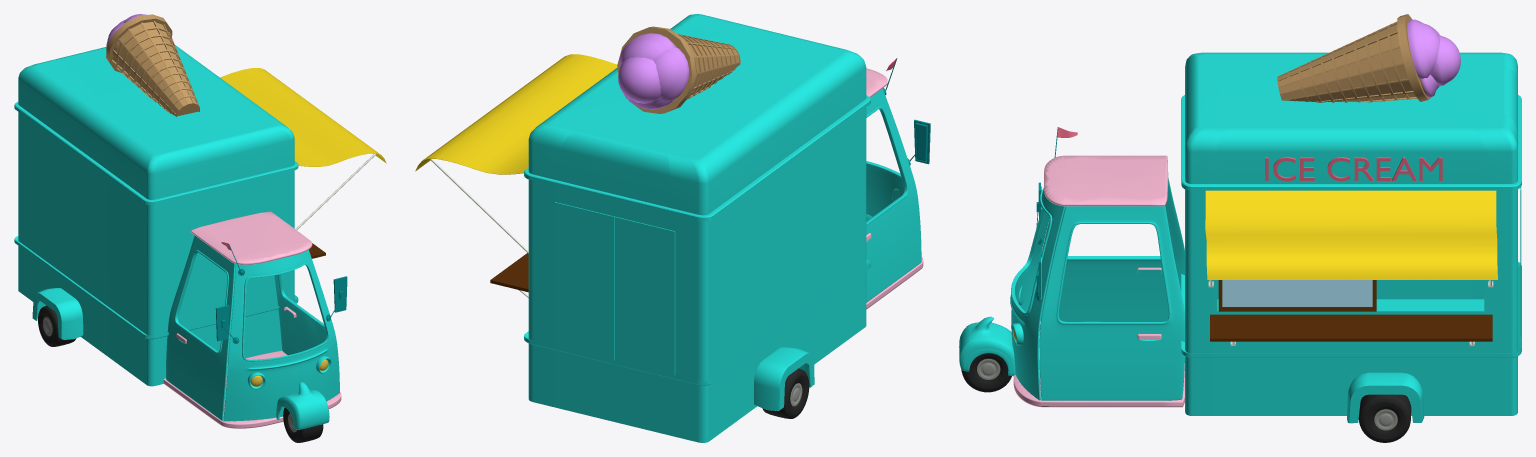
Rendered from car.fbx.
The picture shows the model from 3 angles, left to right: view 1: azimuth 30°, elevation 25°; view 2: azimuth 150°, elevation 25°; view 3: azimuth 270°, elevation 25°; orthographic projection. The views are drawn at different scales.
Visible parts, largest first — view 1: pCube3, polySurface8, pSphere6, pCube8, pCube1, pCube29, pCylinder1, pCube2, polySurface6.001, pCylinder3.001, pCylinder3.002; view 2: pCube3, pCube4, pCube5, pCube8, pSphere6, polySurface8, pCube29, pCylinder3.001, pCube9, polySurface6.001; view 3: pCube3, polySurface8, pCube8, pSphere6, pCube9, pCube1, pCube30, pCube6, pCylinder3, pCylinder1, Text, pCube2 (+1 smaller).
Boxes of the visible parts, x1,y1,x2,y2 form: pCube3: [14, 45, 298, 386]; polySurface8: [166, 235, 339, 421]; pSphere6: [106, 14, 199, 116]; pCube8: [220, 68, 386, 166]; pCube1: [190, 211, 312, 264]; pCube29: [32, 288, 83, 339]; pCylinder1: [276, 382, 329, 429]; pCube2: [163, 350, 341, 428]; polySurface6.001: [215, 276, 347, 343]; pCylinder3.001: [38, 305, 76, 346]; pCylinder3.002: [283, 407, 323, 442]; pCube3: [524, 14, 870, 442]; pCube4: [554, 202, 614, 360]; pCube5: [615, 216, 675, 375]; pCube8: [415, 54, 617, 174]; pSphere6: [617, 26, 740, 113]; polySurface8: [866, 88, 921, 302]; pCube29: [754, 347, 814, 410]; pCylinder3.001: [762, 368, 809, 418]; pCube9: [490, 253, 528, 292]; polySurface6.001: [907, 119, 930, 165]; pCube3: [1181, 52, 1521, 415]; polySurface8: [1010, 178, 1184, 400]; pCube8: [1205, 190, 1497, 279]; pSphere6: [1277, 14, 1460, 102]; pCube9: [1210, 314, 1492, 341]; pCube1: [1044, 155, 1168, 206]; pCube30: [1218, 280, 1376, 311]; pCube6: [1347, 372, 1424, 423]; pCylinder3: [1358, 394, 1411, 442]; pCylinder1: [959, 316, 1015, 376]; Text: [1265, 157, 1442, 181]; pCube2: [1013, 331, 1184, 407].
Size of the model in its own units: 4202 by 4489 by 6129.
